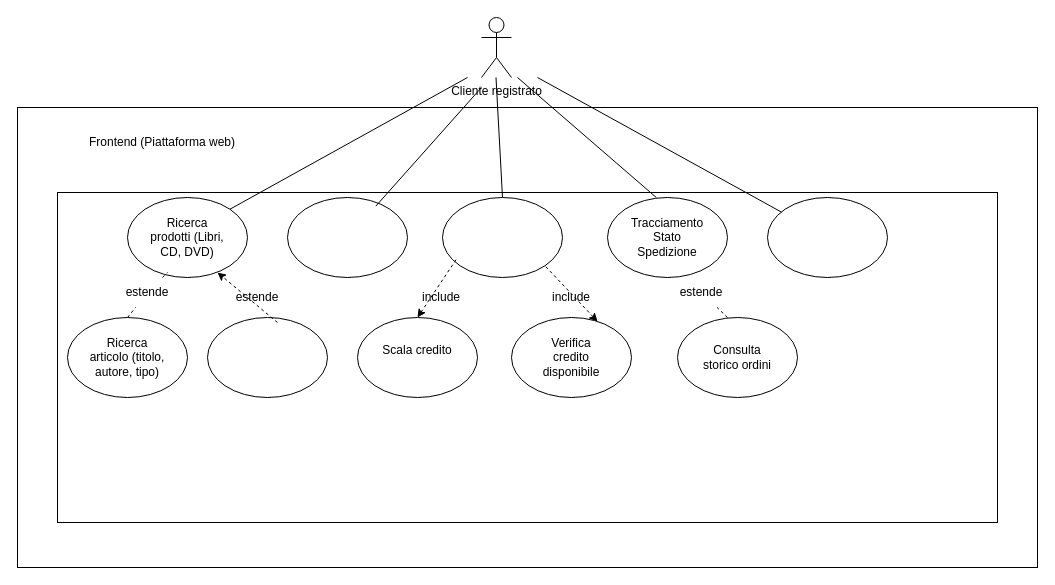
The diagram is 1055 pixels wide and 585 high, and some of its shapes have lost their labels. Here are the shapes that lost their labels. From the top down, the centre of each, then its label:
At [347,237]: "Gestione Carrello della spesa".
At [502,237]: "Effettua Checkout / Acquisto".
At [827,237]: "Consulta credito residuo".
At [267,357]: "Visualizza scheda articolo".
